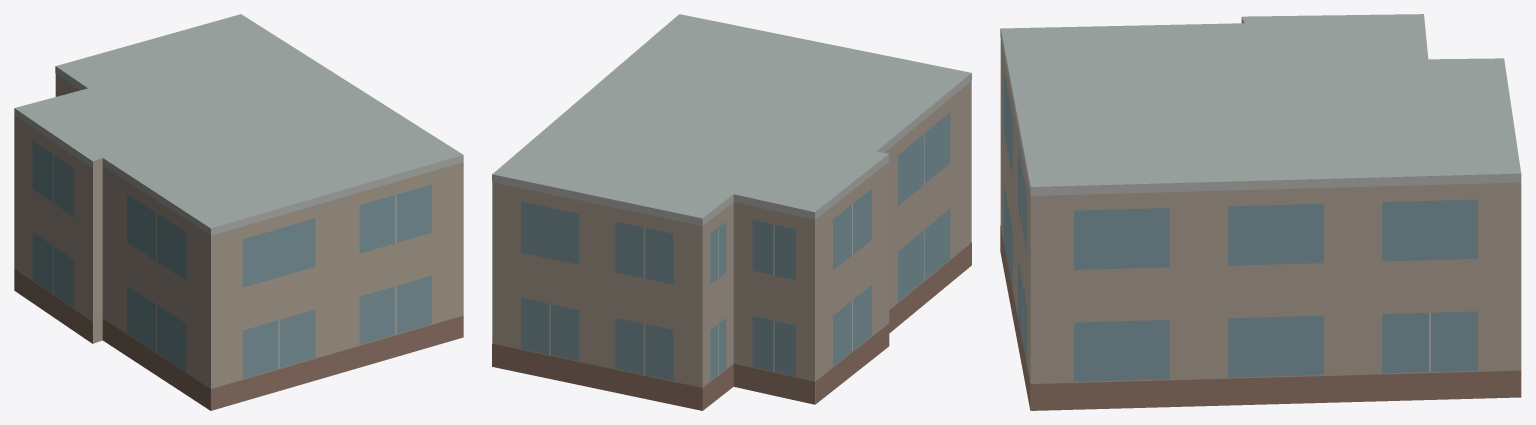
File: survey-upis-32785260.glb
The picture shows the model from 3 angles, left to right: view 1: azimuth 30°, elevation 25°; view 2: azimuth 150°, elevation 25°; view 3: azimuth 270°, elevation 25°; orthographic projection. The views are drawn at different scales.
Visible parts, largest first — view 1: survey-upis-32785260.tmp; view 2: survey-upis-32785260.tmp; view 3: survey-upis-32785260.tmp.
Part boxes in pixels (left/top/right/bottom): survey-upis-32785260.tmp: left=14, top=14, right=463, bottom=410; survey-upis-32785260.tmp: left=492, top=14, right=971, bottom=410; survey-upis-32785260.tmp: left=1000, top=14, right=1521, bottom=410.
Bounding box in the file's own units: 10.13 × 6.1 × 12.87.
